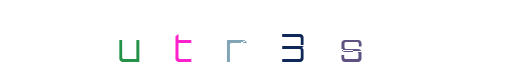3: (217, 0, 297, 80)
R: (215, 0, 295, 80)
S: (254, 0, 334, 80)
T: (194, 0, 274, 80)
U: (140, 0, 220, 80)
